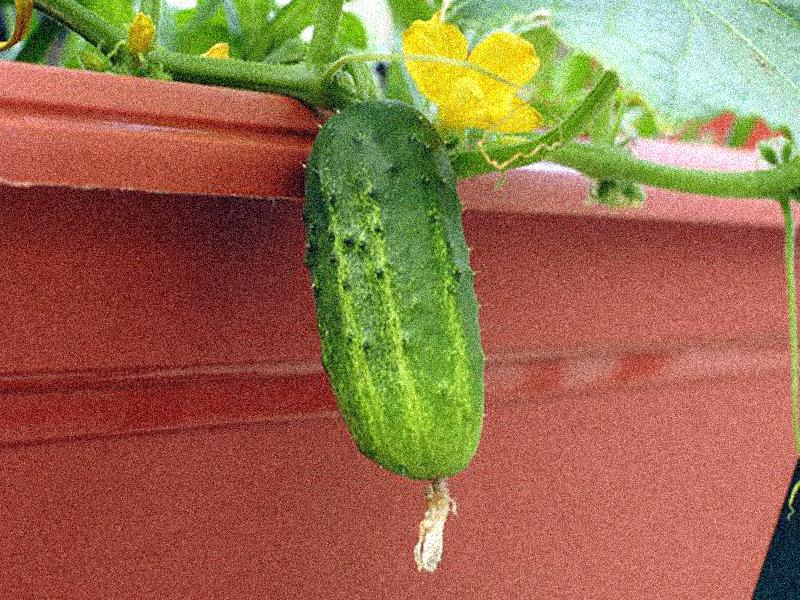Cucumber: (305, 98, 486, 575)
